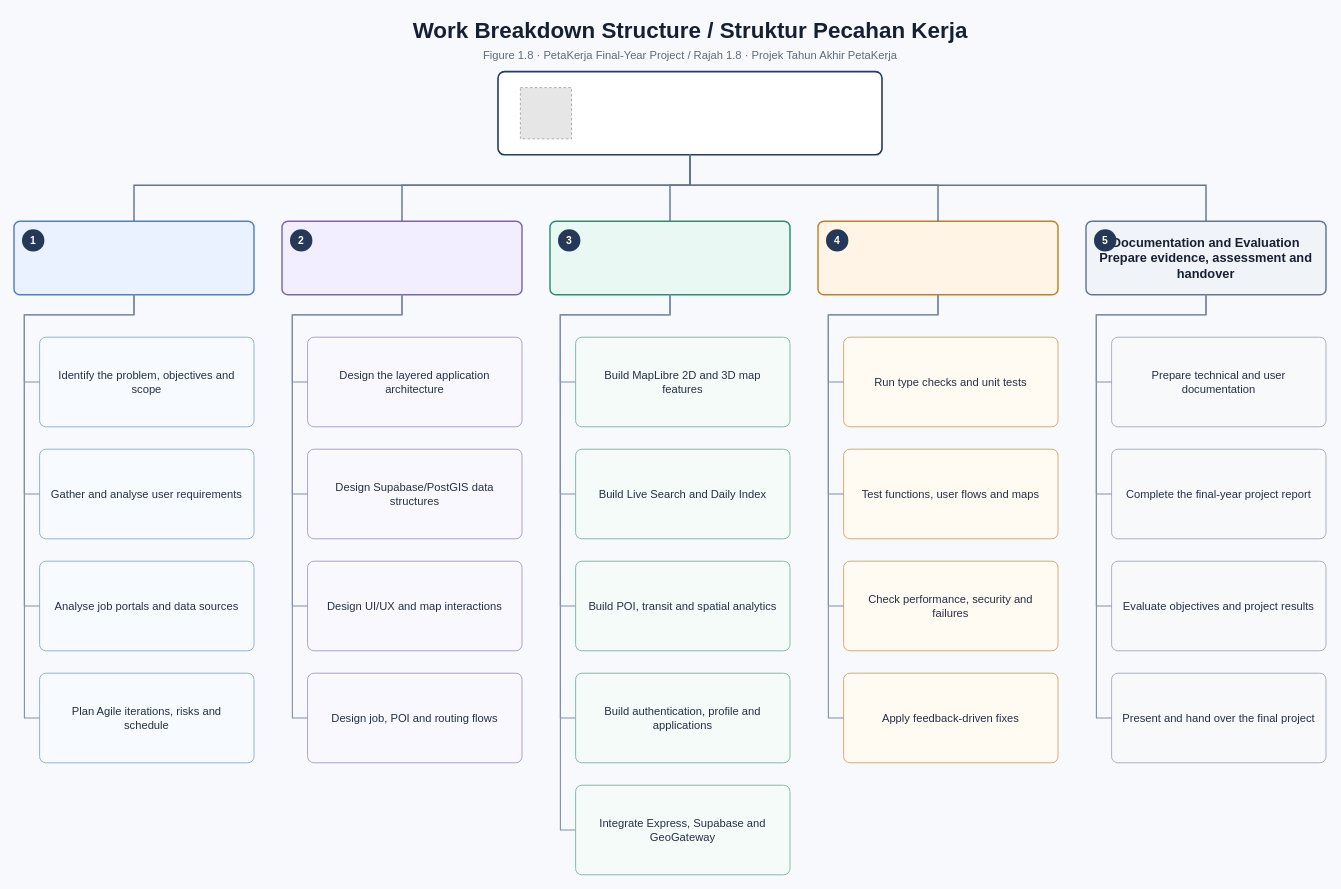
The diagram is 1341 pixels wide and 889 high, and some of its shapes have lost their labels. Grey dashed boxes stand in for pictures. Each missing label, with the box of its shape:
PetaKerja Application Project Five coordinated Agile workstreams: (497, 70, 882, 155)
Planning and Analysis Define the project before implementation: (13, 220, 254, 295)
System Design Translate requirements into a workable design: (281, 220, 522, 295)
System Development Implement modules and integrations: (549, 220, 790, 295)
Testing and Improvement Verify quality and feed findings back: (817, 220, 1058, 295)
